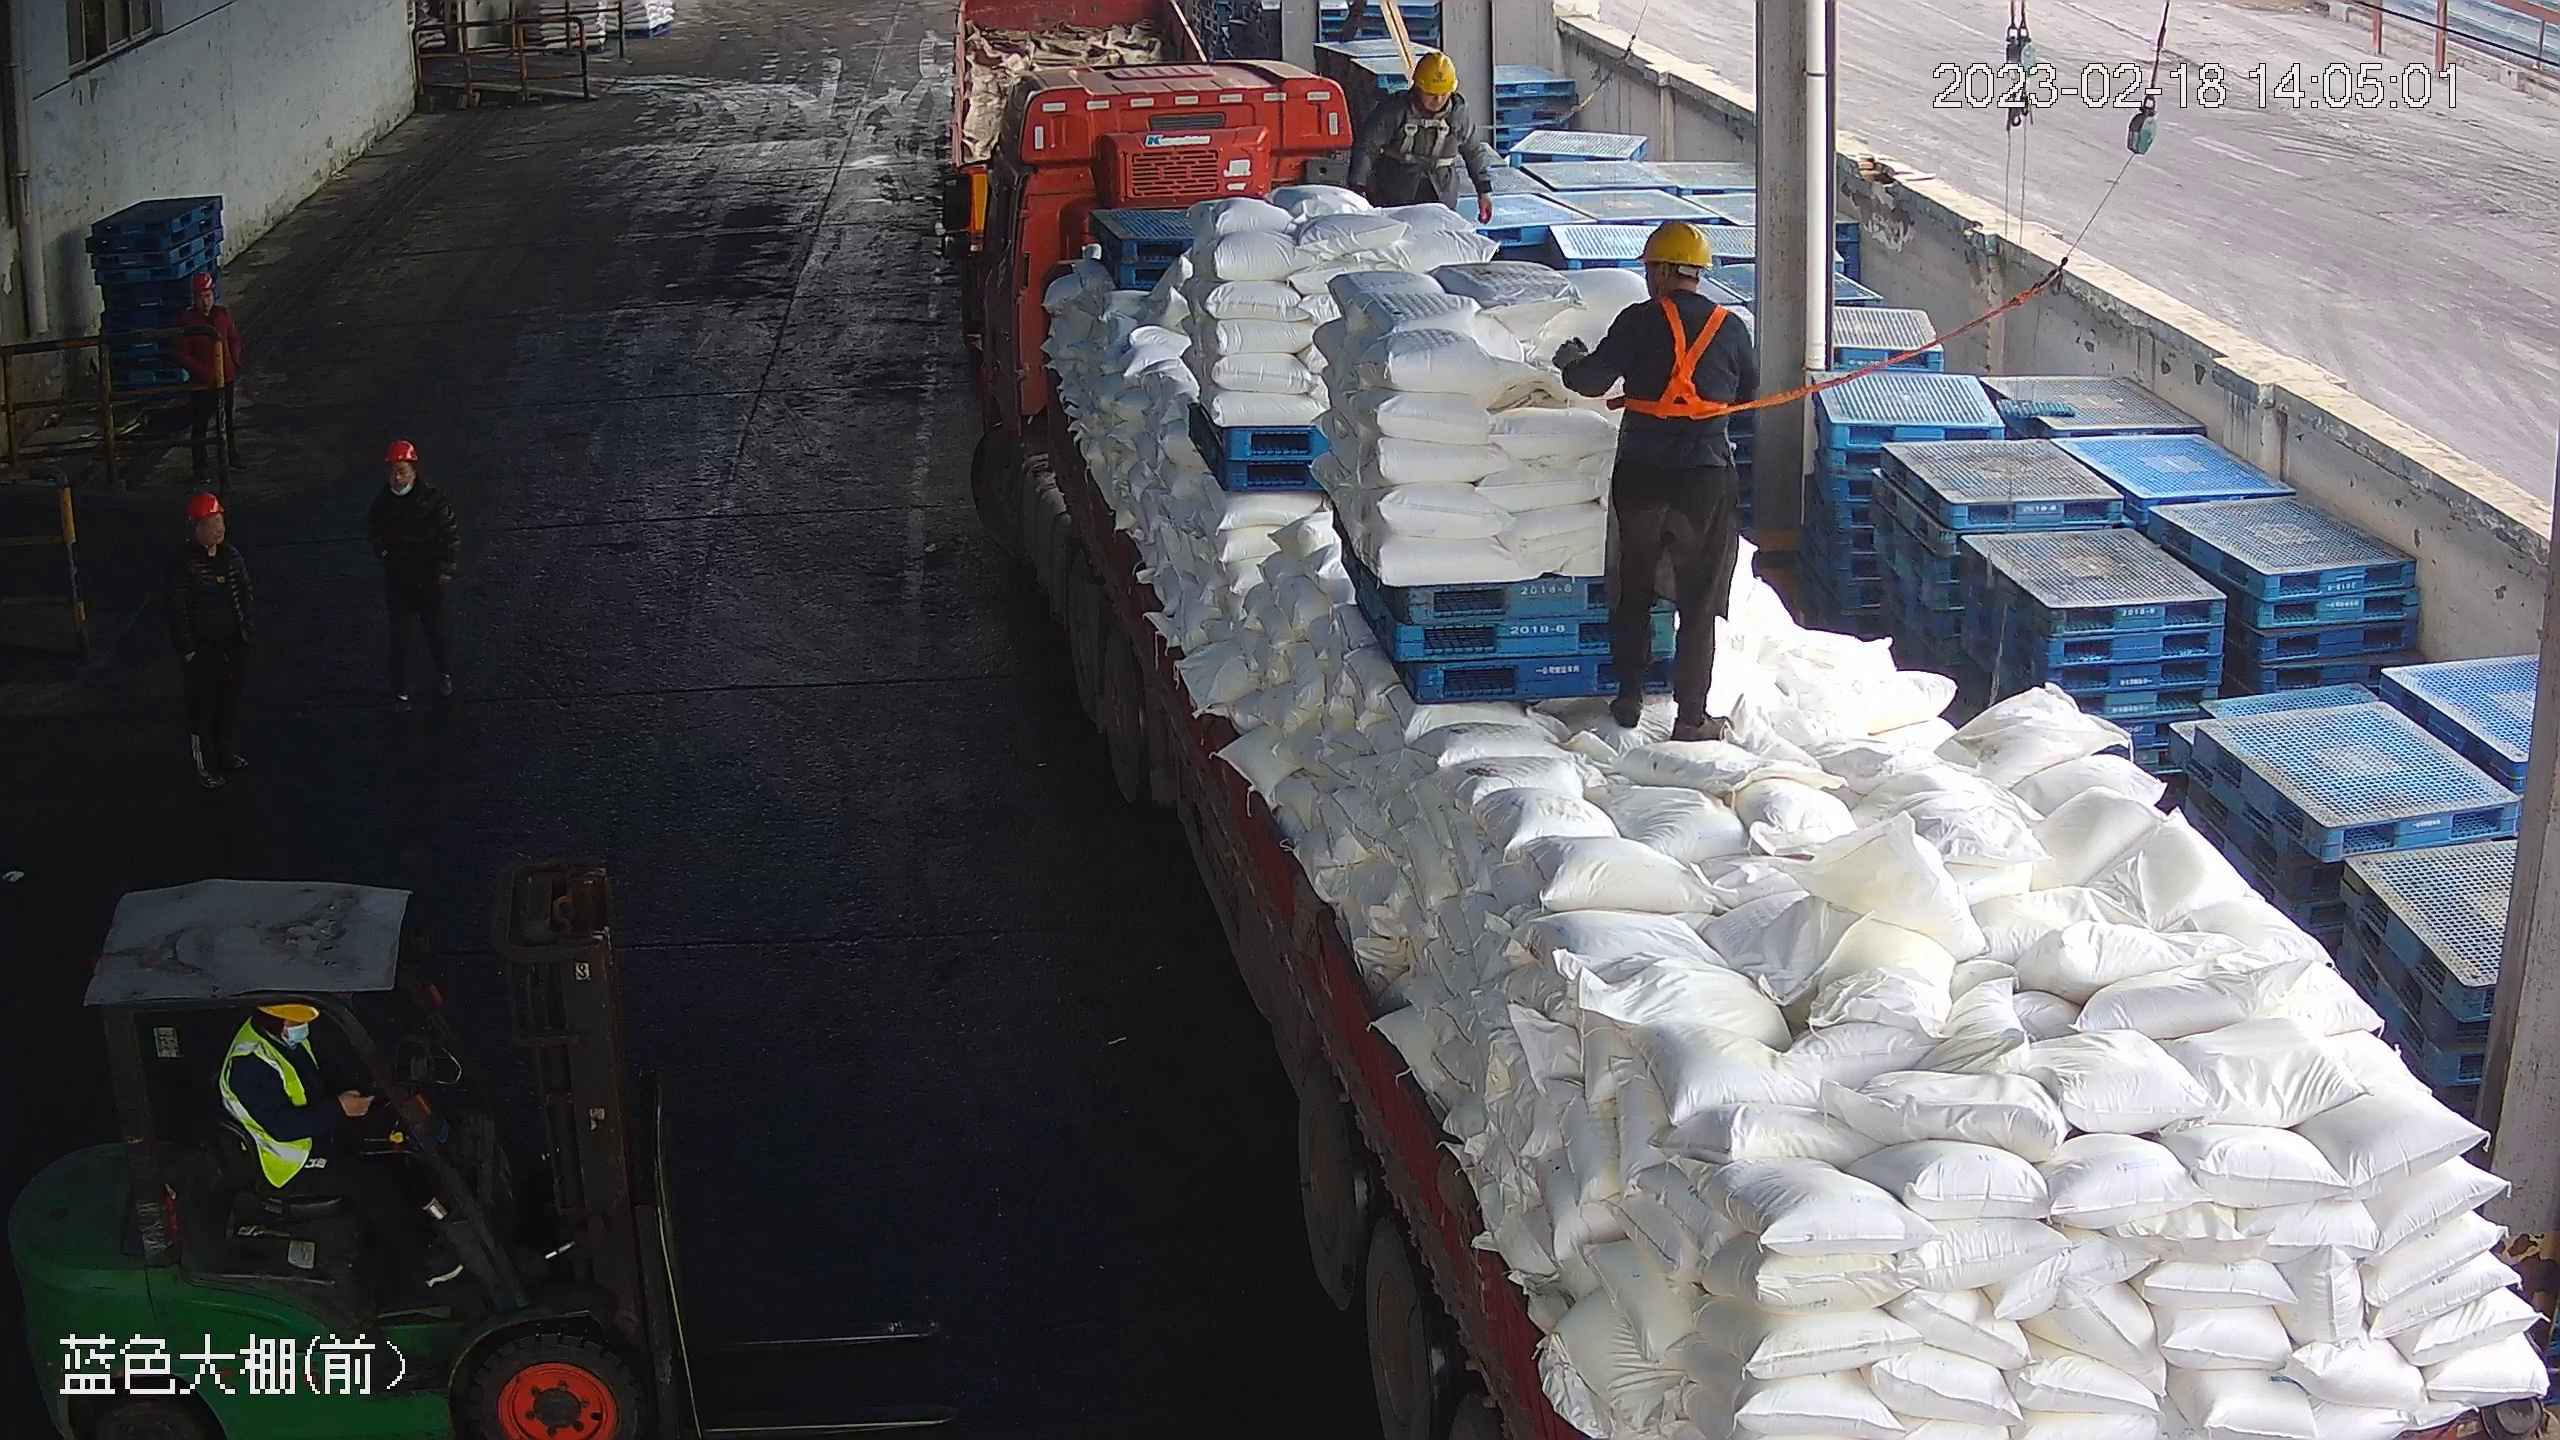belt: (1618, 289, 1747, 423), (1395, 98, 1461, 164)
head: (1594, 219, 1758, 359), (223, 995, 331, 1105), (1371, 49, 1477, 142), (168, 490, 253, 591), (364, 439, 450, 526), (181, 266, 234, 328)
helmet: (1635, 219, 1715, 270), (1408, 47, 1458, 94), (258, 996, 324, 1024), (183, 489, 223, 520), (382, 438, 418, 467), (190, 270, 213, 290)
people: (1548, 219, 1762, 742), (213, 993, 442, 1281), (163, 490, 259, 792), (364, 436, 463, 714), (1355, 46, 1485, 220), (176, 271, 249, 478)
truck: (937, 36, 2555, 1440)
